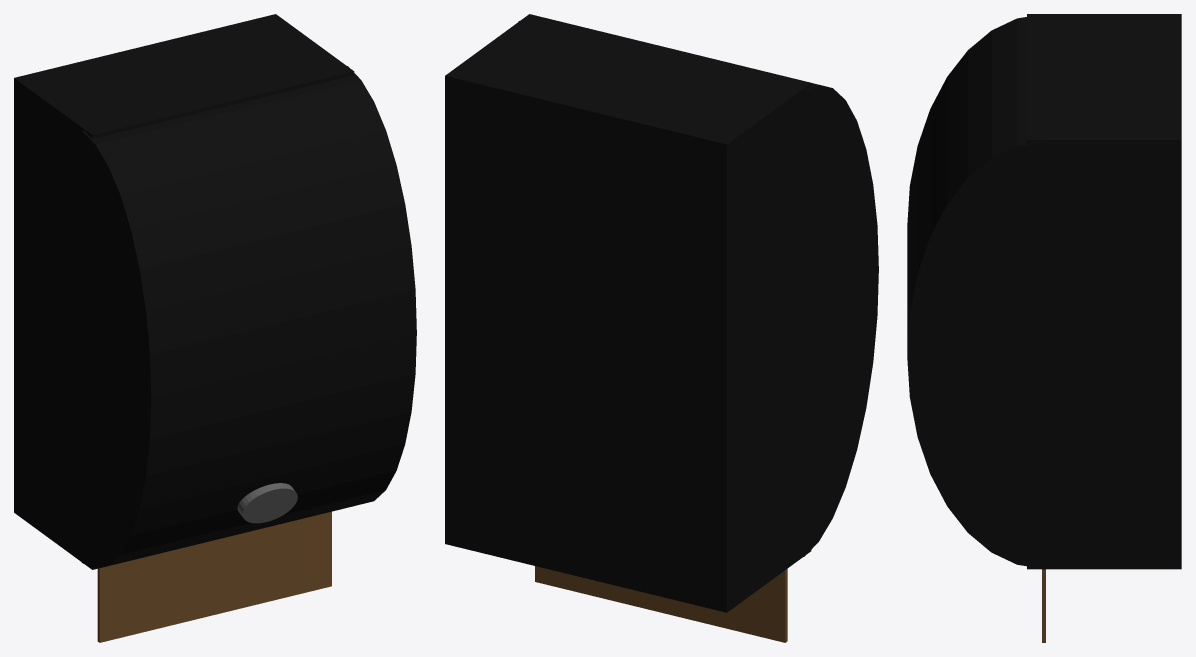
The model's file is papertowelsER.fbx.
3 renders of one model, left to right at view 1: azimuth 30°, elevation 25°; view 2: azimuth 150°, elevation 25°; view 3: azimuth 270°, elevation 25°, orthographic. The views are drawn at different scales.
Parts seen in each view (by area): view 1: Cylinder, Cube, Cube.001, Cylinder.001; view 2: Cube, Cylinder, Cube.001; view 3: Cube, Cylinder.
Boxes of the visible parts, x1,y1,x2,y2 form: Cylinder: (81, 66, 416, 568); Cube: (14, 14, 354, 569); Cube.001: (97, 511, 331, 642); Cylinder.001: (237, 483, 297, 523); Cube: (445, 14, 811, 612); Cylinder: (518, 21, 878, 556); Cube.001: (535, 566, 787, 642); Cube: (1027, 14, 1181, 569); Cylinder: (907, 17, 1044, 568).
Bounding box in the file's own units: 126 × 234 × 114.
